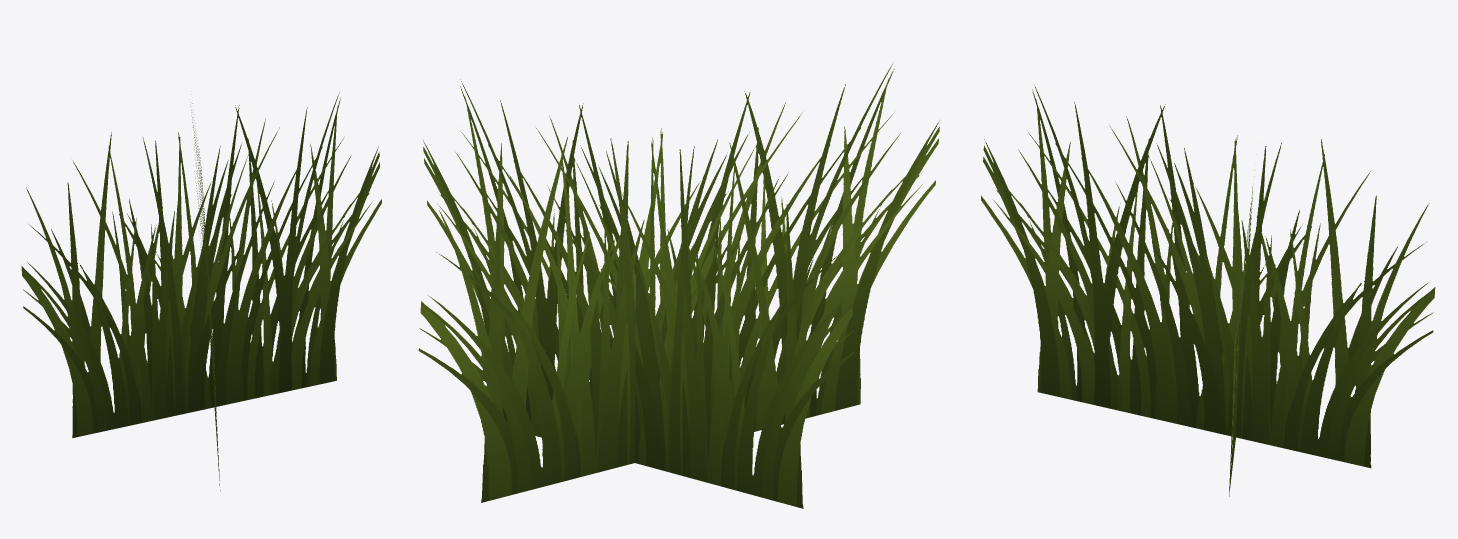
The model's file is grass_1_burnt2.glb.
The picture shows the model from 3 angles, left to right: view 1: azimuth 30°, elevation 25°; view 2: azimuth 150°, elevation 25°; view 3: azimuth 270°, elevation 25°; orthographic projection. The views are drawn at different scales.
Visible parts, largest first — view 1: grass_1_burnt2; view 2: grass_1_burnt2; view 3: grass_1_burnt2.
Boxes of the visible parts, x1=… form: grass_1_burnt2: x1=21, y1=91, x2=381, y2=490; grass_1_burnt2: x1=418, y1=62, x2=939, y2=508; grass_1_burnt2: x1=981, y1=85, x2=1435, y2=496.
Bounding box in the file's own units: 0.5259 × 0.4413 × 0.5679.
1 material, 1 textured.
